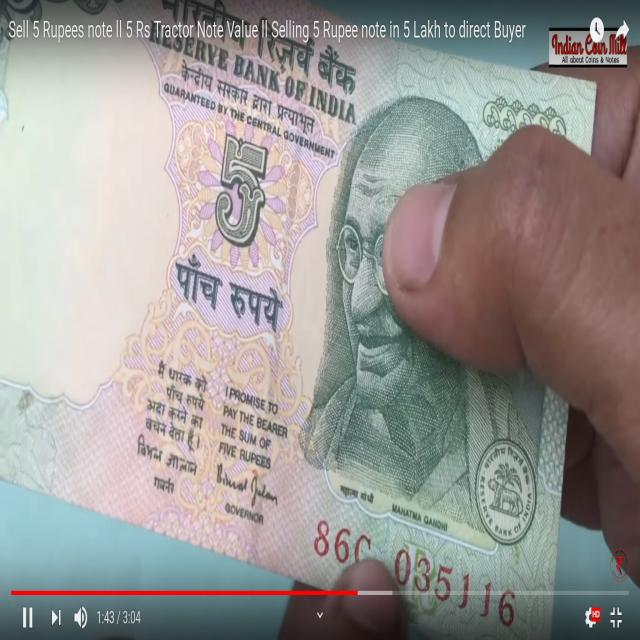5IndianRupees: (11, 71, 583, 576)
